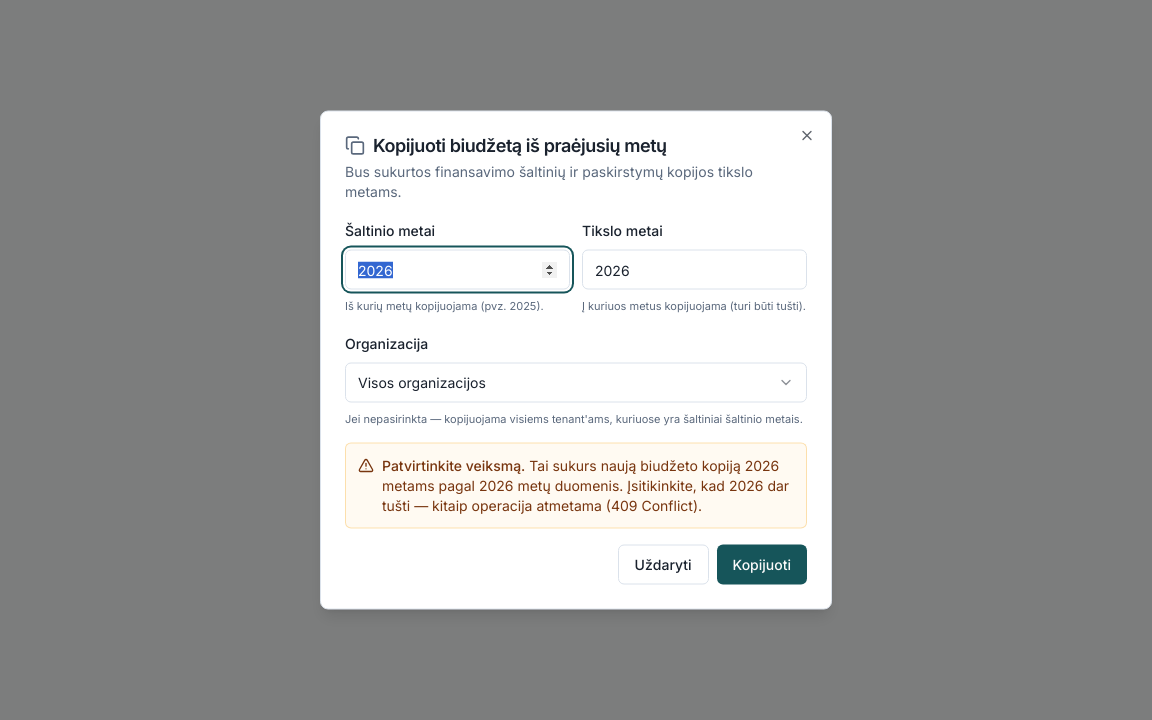
it: CopyBudgetDialog (Iter 15, F16) › rodo validation klaidą, kai šaltinio ir tikslo metai sutampa
Expected: the heading "Kopijuoti biudžetą iš praėjusių metų" is shown, [345, 134, 667, 156]
Click the button with test id "copy-submit" at (762, 564), box [717, 544, 807, 584]
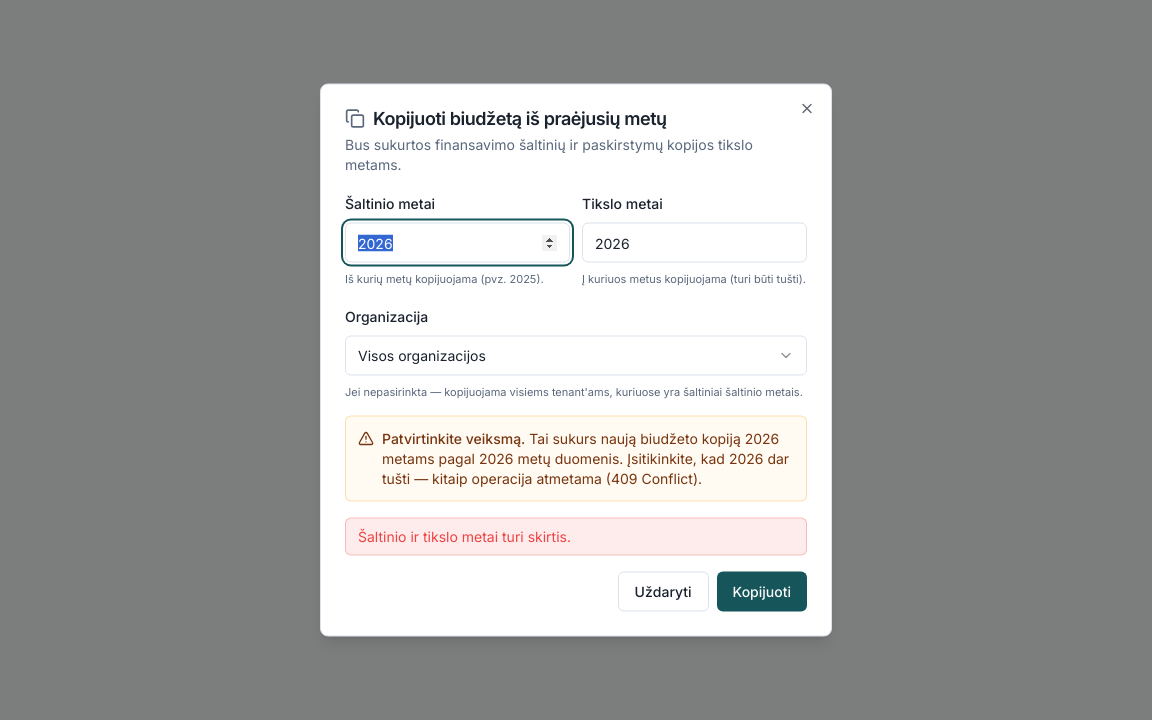
Expected: the text "Šaltinio ir tikslo metai turi skirtis." is shown, [345, 518, 807, 556]
